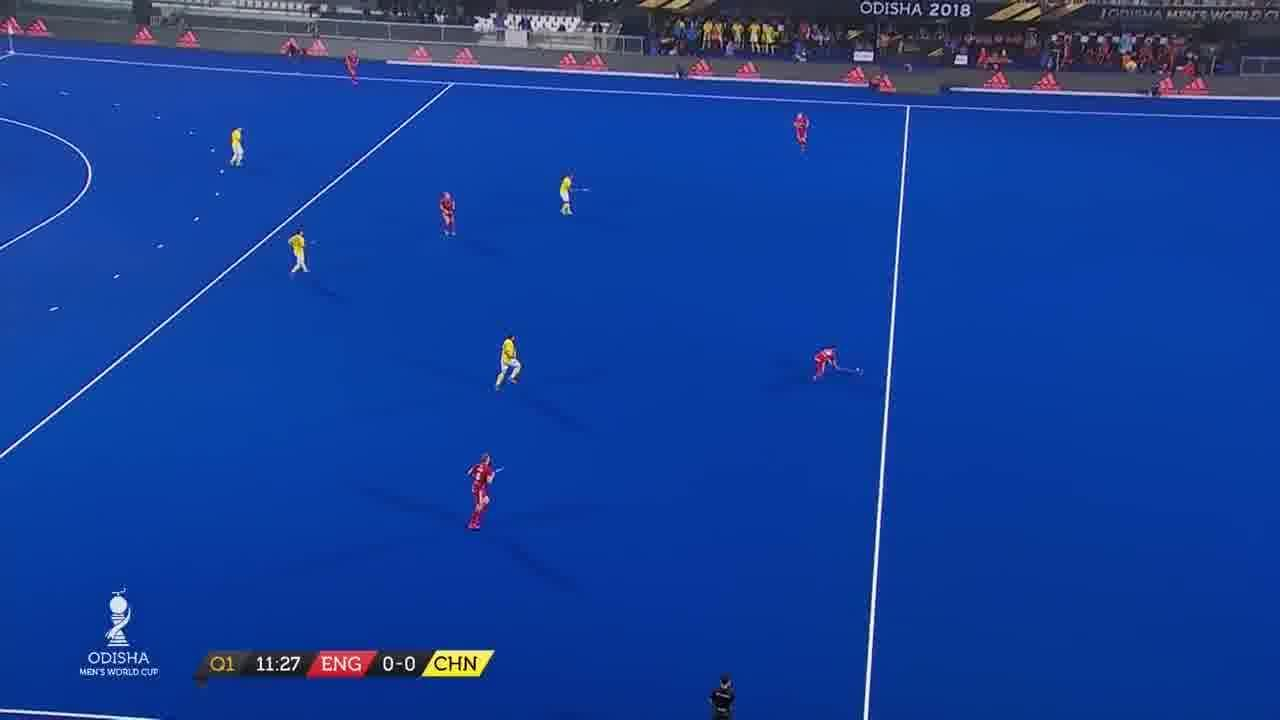ball: (852, 365, 862, 378)
